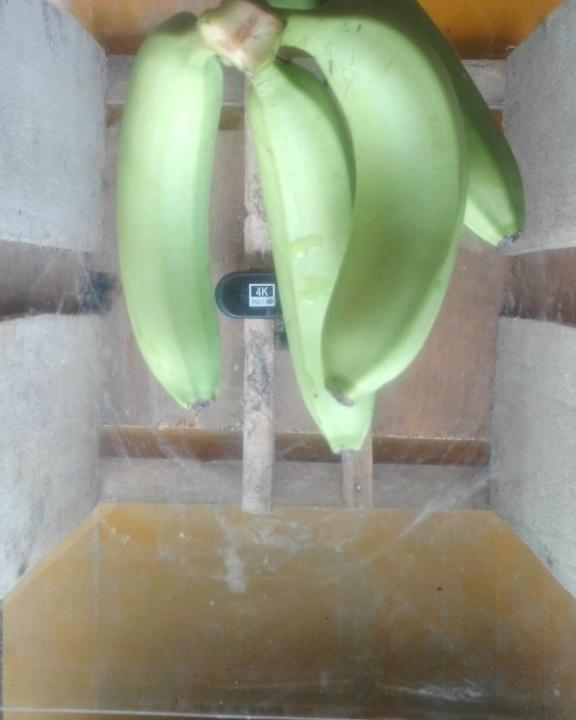SPOT: (101, 1, 541, 453)
